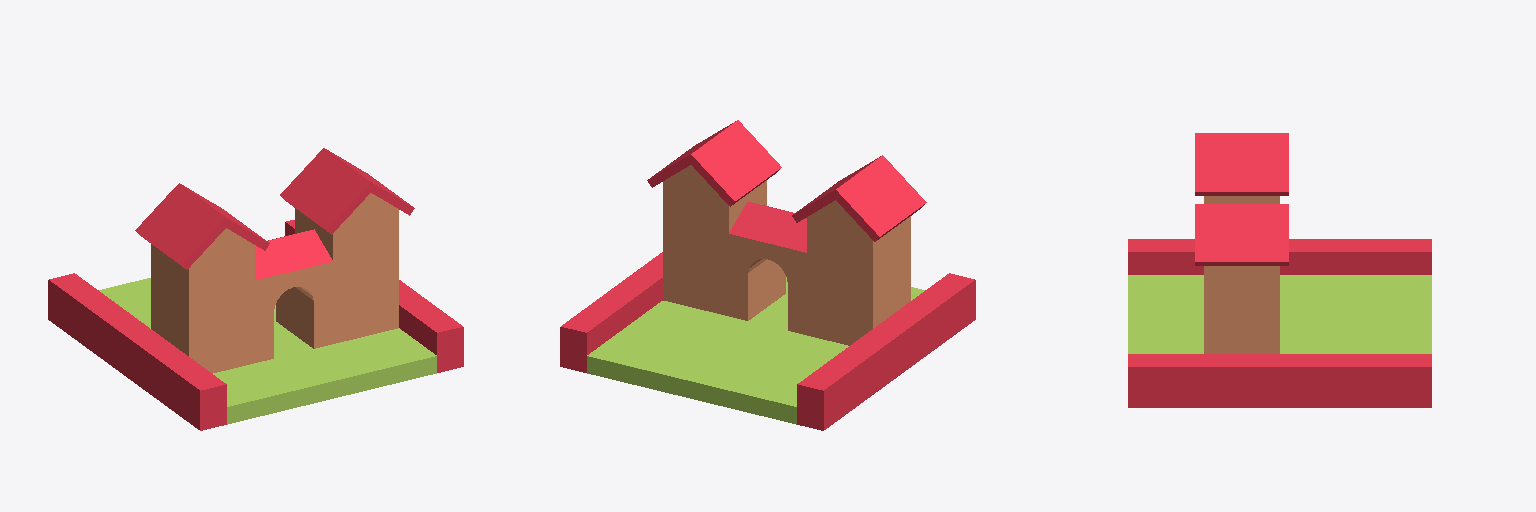
Rendered from castle.obj.
The picture shows the model from 3 angles: view 1: azimuth 30°, elevation 25°; view 2: azimuth 150°, elevation 25°; view 3: azimuth 270°, elevation 25°; orthographic projection.
Parts seen in each view (by area): view 1: castle; view 2: castle; view 3: castle.
Part boxes in pixels (bbox=[...]): castle: bbox=[48, 148, 463, 430]; castle: bbox=[560, 120, 975, 430]; castle: bbox=[1128, 133, 1431, 407].
Bounding box in the file's own units: 0.9999 × 0.635 × 0.9999.